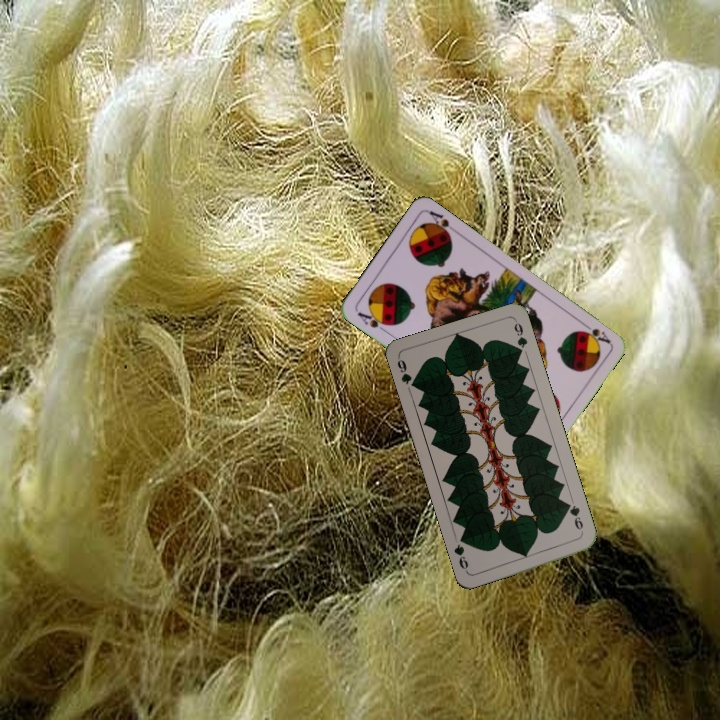G9: (393, 354, 420, 391), (562, 499, 586, 537)
SA: (353, 307, 392, 334), (577, 318, 613, 346)
